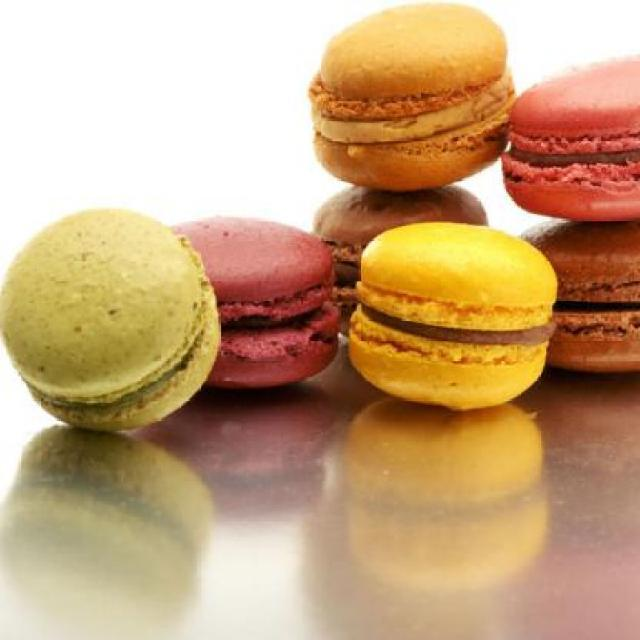Macaron: (3, 2, 640, 427)
